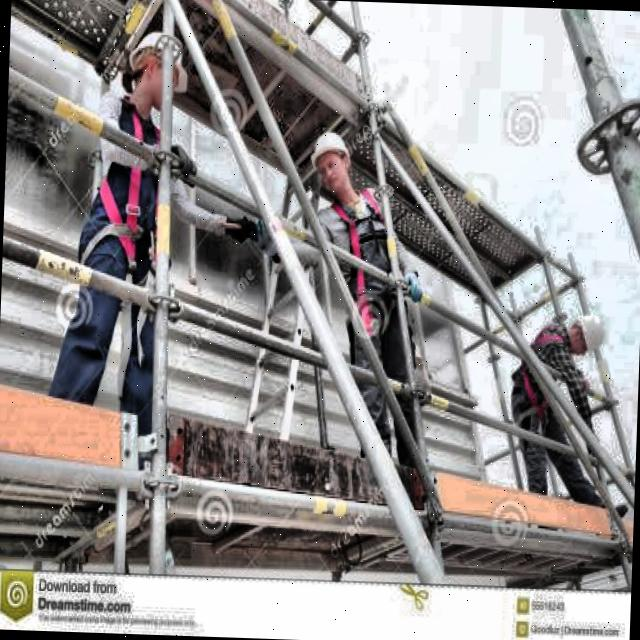helmet: (125, 22, 192, 120), (309, 124, 355, 198), (566, 310, 606, 360)
